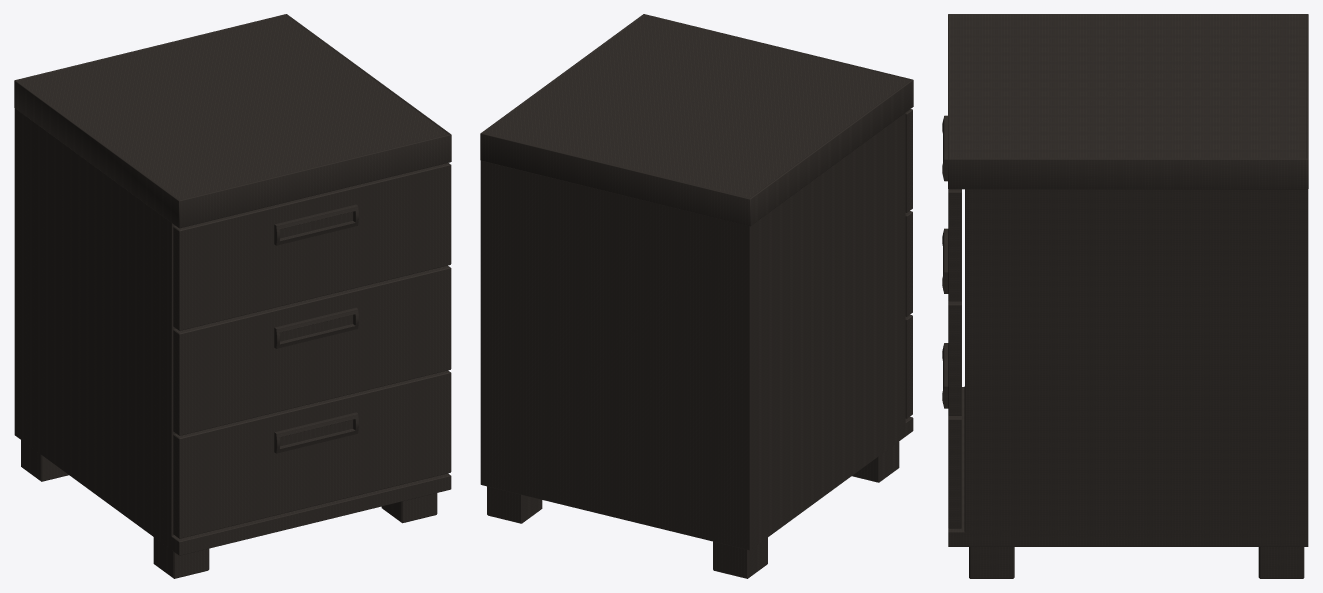
The model's file is mesita de noche.glb.
3 views of the same model, side by side, from view 1: azimuth 30°, elevation 25°; view 2: azimuth 150°, elevation 25°; view 3: azimuth 270°, elevation 25° (orthographic). The views are drawn at different scales.
Visible parts, largest first — view 1: mesita de noche; view 2: mesita de noche; view 3: mesita de noche.
Part boxes in pixels (bbox=[...]): mesita de noche: bbox=[14, 14, 451, 578]; mesita de noche: bbox=[480, 14, 913, 578]; mesita de noche: bbox=[942, 14, 1308, 578].
Size of the model in its own units: 0.3991 by 0.5406 by 0.4251.
1 material, 1 textured.
